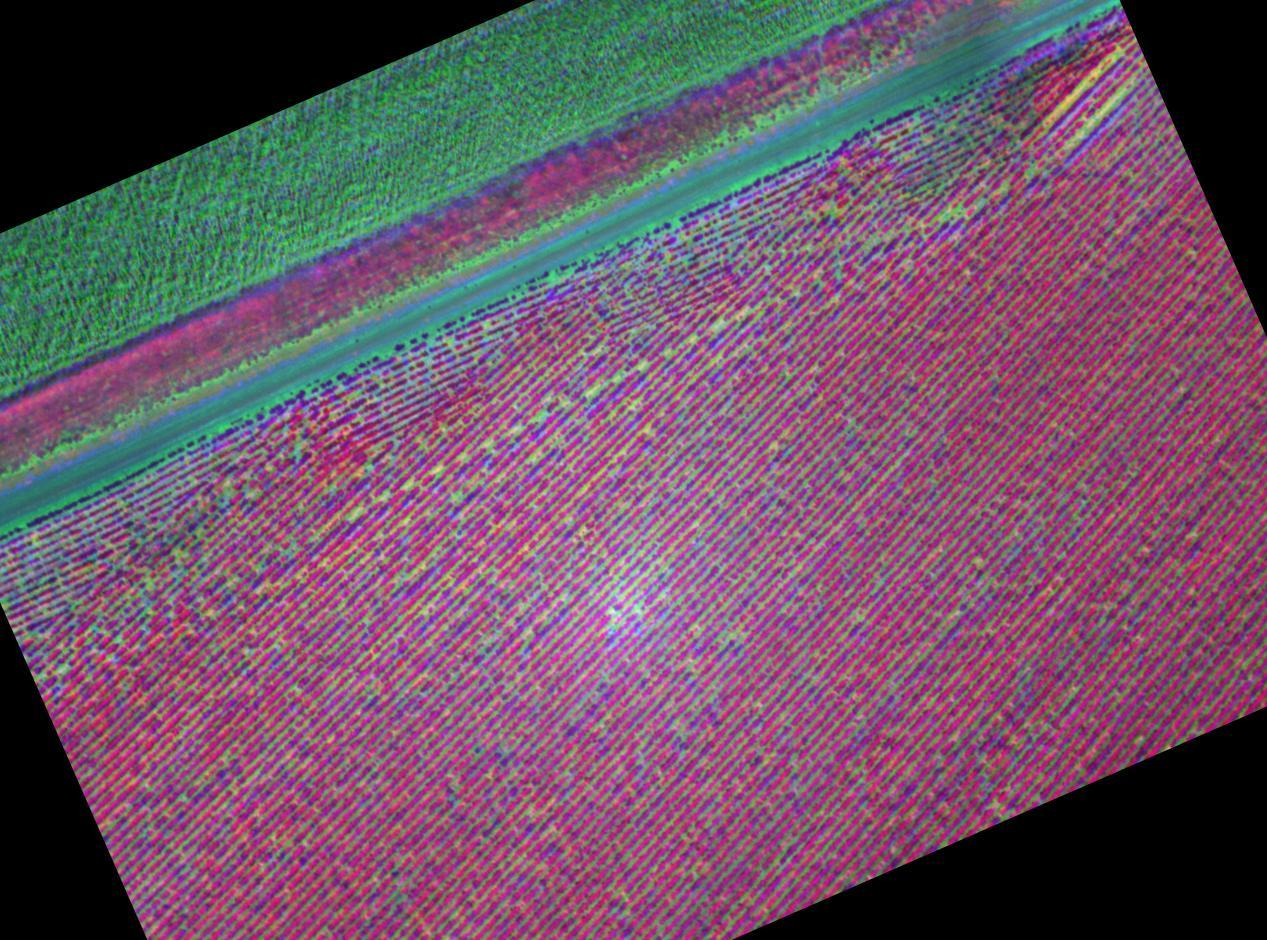dc: (148, 580, 152, 585), (116, 638, 121, 641), (172, 549, 176, 552), (635, 607, 639, 610), (614, 612, 618, 615), (730, 635, 733, 638), (976, 558, 978, 562)
